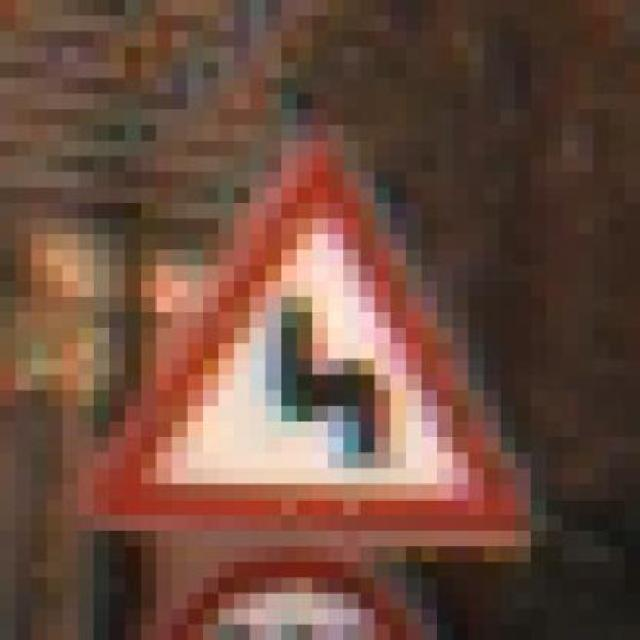Left Zig Zag Traffic: (62, 109, 578, 562)
